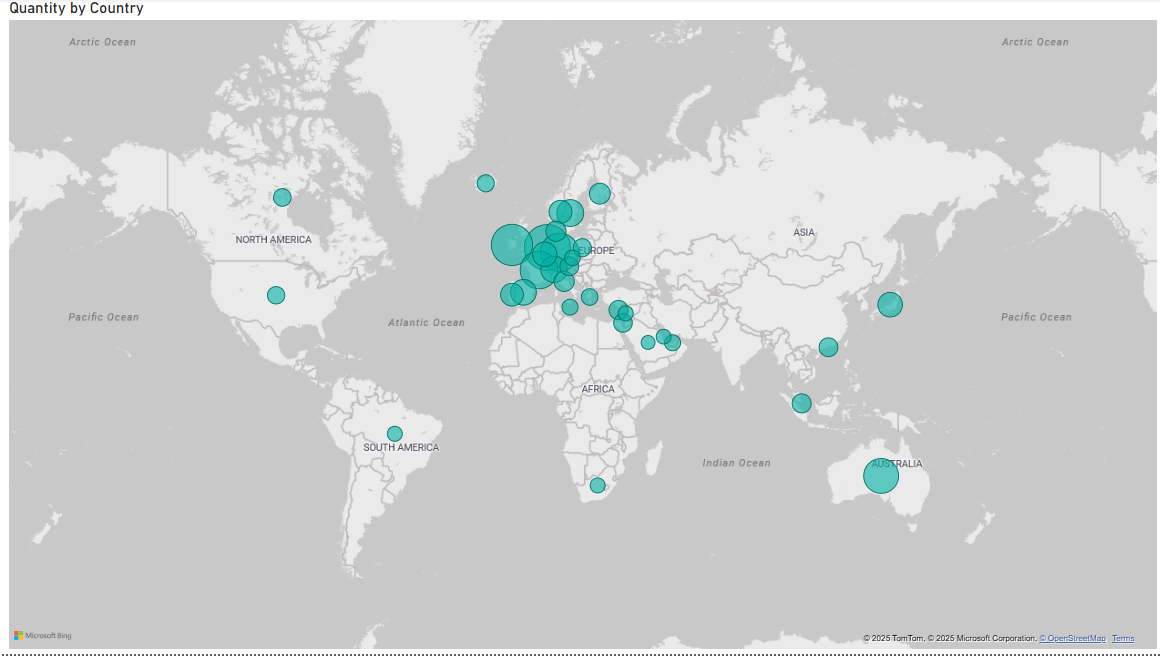

The dashboard page shown, as its layout file describes it:
{"tool":"powerbi","page":{"name":"total unit sold by country","canvas":[1280,720],"ordinal":3},"visuals":[{"type":"map","title":"total unit sold by  Country","fields":{"Category":["Online Retail.Country"],"Size":["Sum(Online Retail.UnitPrice)"]},"box":[10,0,1270,720],"z":0}]}

Visuals, with their boxes in screenshot pixels (x1, y1, x2, y2), scaled from the page's 1280x720 canvas onto the 1160x656 screenshot:
"total unit sold by  Country" map: <box>9,0,1159,655</box>
